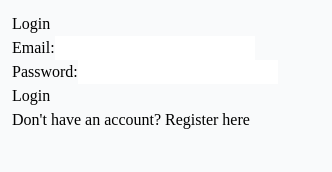
Test: LoginPage › handles network errors gracefully
Type "test@example.com" into the field labelled "Email:" at (155, 48), box [55,36,255,60]
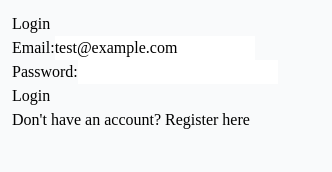
Type "password123" into the password field labelled "Password:" at (178, 72), box [78,60,278,84]
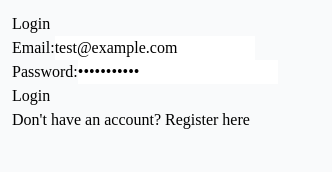
Click the button "Login" at (31, 96), box [12,84,50,108]
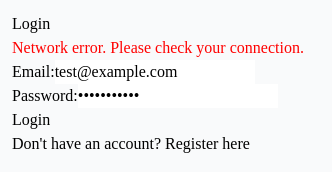
Expected: the text "Network error. Please check your connection." is shown, [12,39,304,56]
